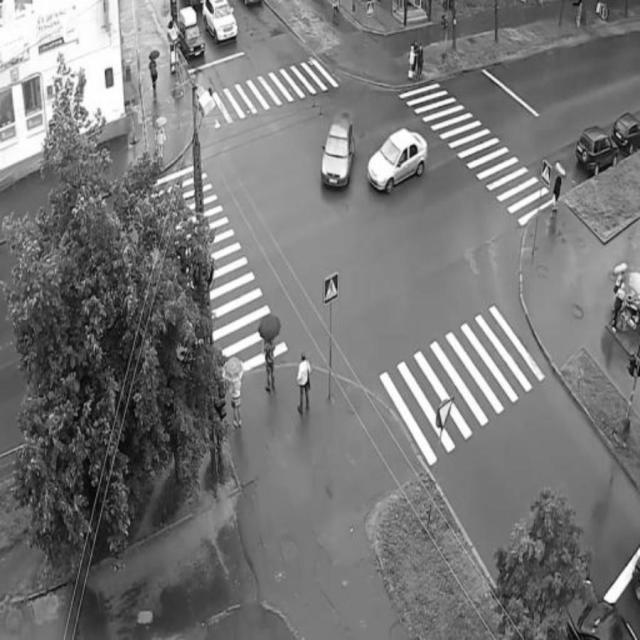person: (293, 342, 317, 414), (222, 359, 246, 423), (260, 318, 278, 392), (152, 125, 176, 173), (144, 49, 161, 110), (547, 168, 569, 215), (410, 36, 428, 90), (613, 274, 623, 336), (409, 38, 421, 88)
vehicle: (367, 132, 431, 188), (324, 107, 354, 200), (578, 123, 619, 184), (200, 0, 241, 51), (608, 95, 640, 159), (178, 11, 203, 62)
